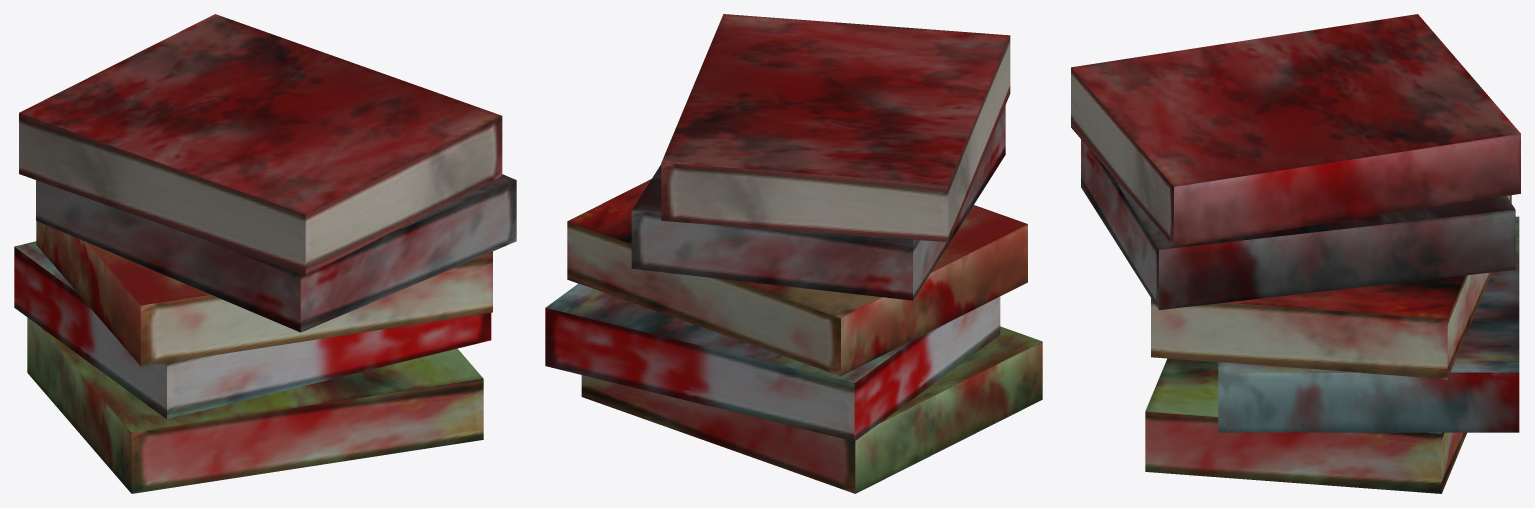
Rendered from Books.FBX.
3 views of the same model, side by side, from view 1: azimuth 30°, elevation 25°; view 2: azimuth 150°, elevation 25°; view 3: azimuth 270°, elevation 25° (orthographic). The views are drawn at different scales.
Visible parts, largest first — view 1: Box038; view 2: Box038; view 3: Box038.
Part boxes in pixels (box(x1,y1,x2,y2)): Box038: box(14, 14, 516, 493); Box038: box(545, 14, 1042, 493); Box038: box(1071, 14, 1520, 493).
Size of the model in its own units: 13.77 by 10.44 by 14.15.
1 material, 1 textured.
